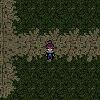Victim: (44, 39, 56, 61)
